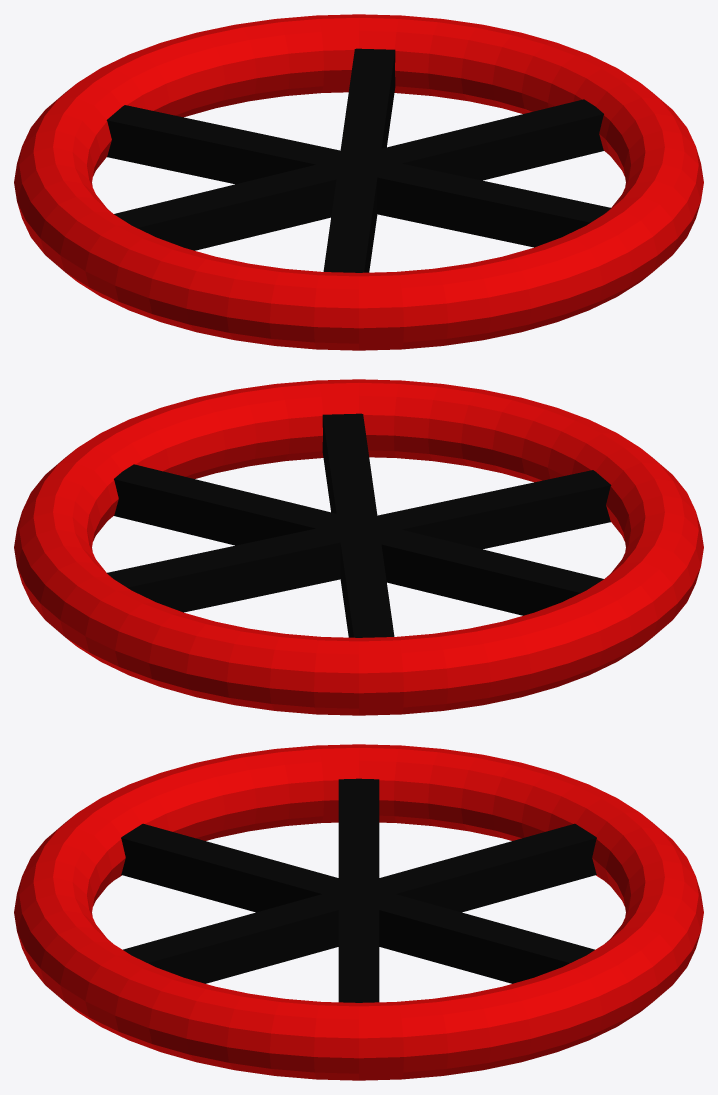
Rendered from VALVE.fbx.
The picture shows the model from 3 angles, top to bottom: view 1: azimuth 30°, elevation 25°; view 2: azimuth 150°, elevation 25°; view 3: azimuth 270°, elevation 25°; orthographic projection.
Parts seen in each view (by area): view 1: Torus; view 2: Torus; view 3: Torus.
Boxes of the visible parts, x1,y1,x2,y2 form: Torus: [14, 14, 703, 350]; Torus: [14, 379, 703, 715]; Torus: [14, 744, 703, 1080].
Size of the model in its own units: 442 by 50 by 442.
